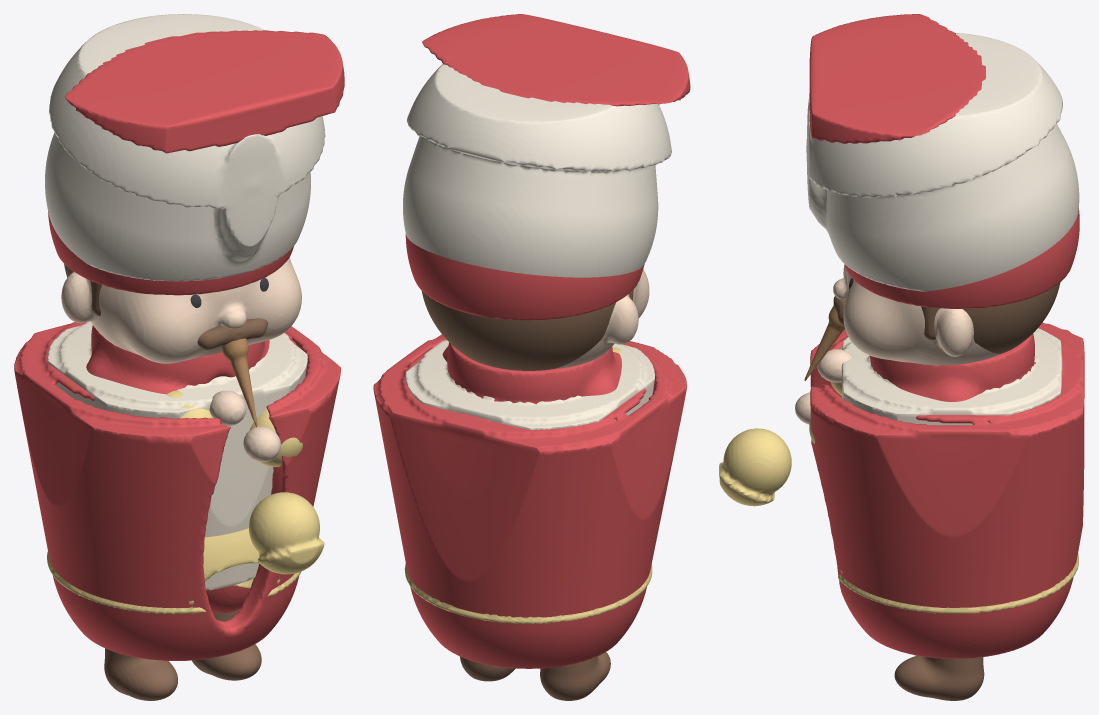
The model's file is mehter_karakter.glb.
The picture shows the model from 3 angles, left to right: view 1: azimuth 30°, elevation 25°; view 2: azimuth 150°, elevation 25°; view 3: azimuth 270°, elevation 25°; orthographic projection. The views are drawn at different scales.
Visible parts, largest first — view 1: RedCaftanAndSalvar, HatCream, HatRed, Skin, CreamTunic, GoldTrim, Boots, HairAndMustache, Zurna; view 2: RedCaftanAndSalvar, HatCream, HatRed, CreamTunic, HairAndMustache, Boots, Skin, GoldTrim; view 3: RedCaftanAndSalvar, HatCream, HatRed, Skin, CreamTunic, GoldTrim, HairAndMustache, Boots, Zurna.
Part boxes in pixels (x1,y1,x2,y2): RedCaftanAndSalvar: [14, 322, 340, 660]; HatCream: [45, 14, 325, 281]; HatRed: [48, 30, 344, 295]; Skin: [61, 257, 301, 461]; CreamTunic: [47, 321, 307, 590]; GoldTrim: [47, 390, 324, 614]; Boots: [104, 608, 261, 700]; HairAndMustache: [64, 264, 267, 349]; Zurna: [221, 338, 257, 426]; RedCaftanAndSalvar: [373, 334, 686, 668]; HatCream: [403, 64, 671, 277]; HatRed: [405, 14, 690, 320]; CreamTunic: [405, 340, 654, 429]; HairAndMustache: [421, 289, 633, 370]; Boots: [460, 652, 610, 700]; Skin: [556, 269, 649, 368]; GoldTrim: [404, 345, 652, 623]; RedCaftanAndSalvar: [810, 322, 1084, 658]; HatCream: [806, 33, 1079, 291]; HatRed: [809, 14, 1079, 308]; Skin: [795, 265, 999, 424]; CreamTunic: [841, 328, 1062, 425]; GoldTrim: [719, 343, 1078, 613]; HairAndMustache: [833, 283, 1060, 353]; Boots: [894, 655, 984, 700]; Zurna: [804, 306, 845, 380].
Bounding box in the file's own units: 0.9025 × 2.08 × 1.14.
